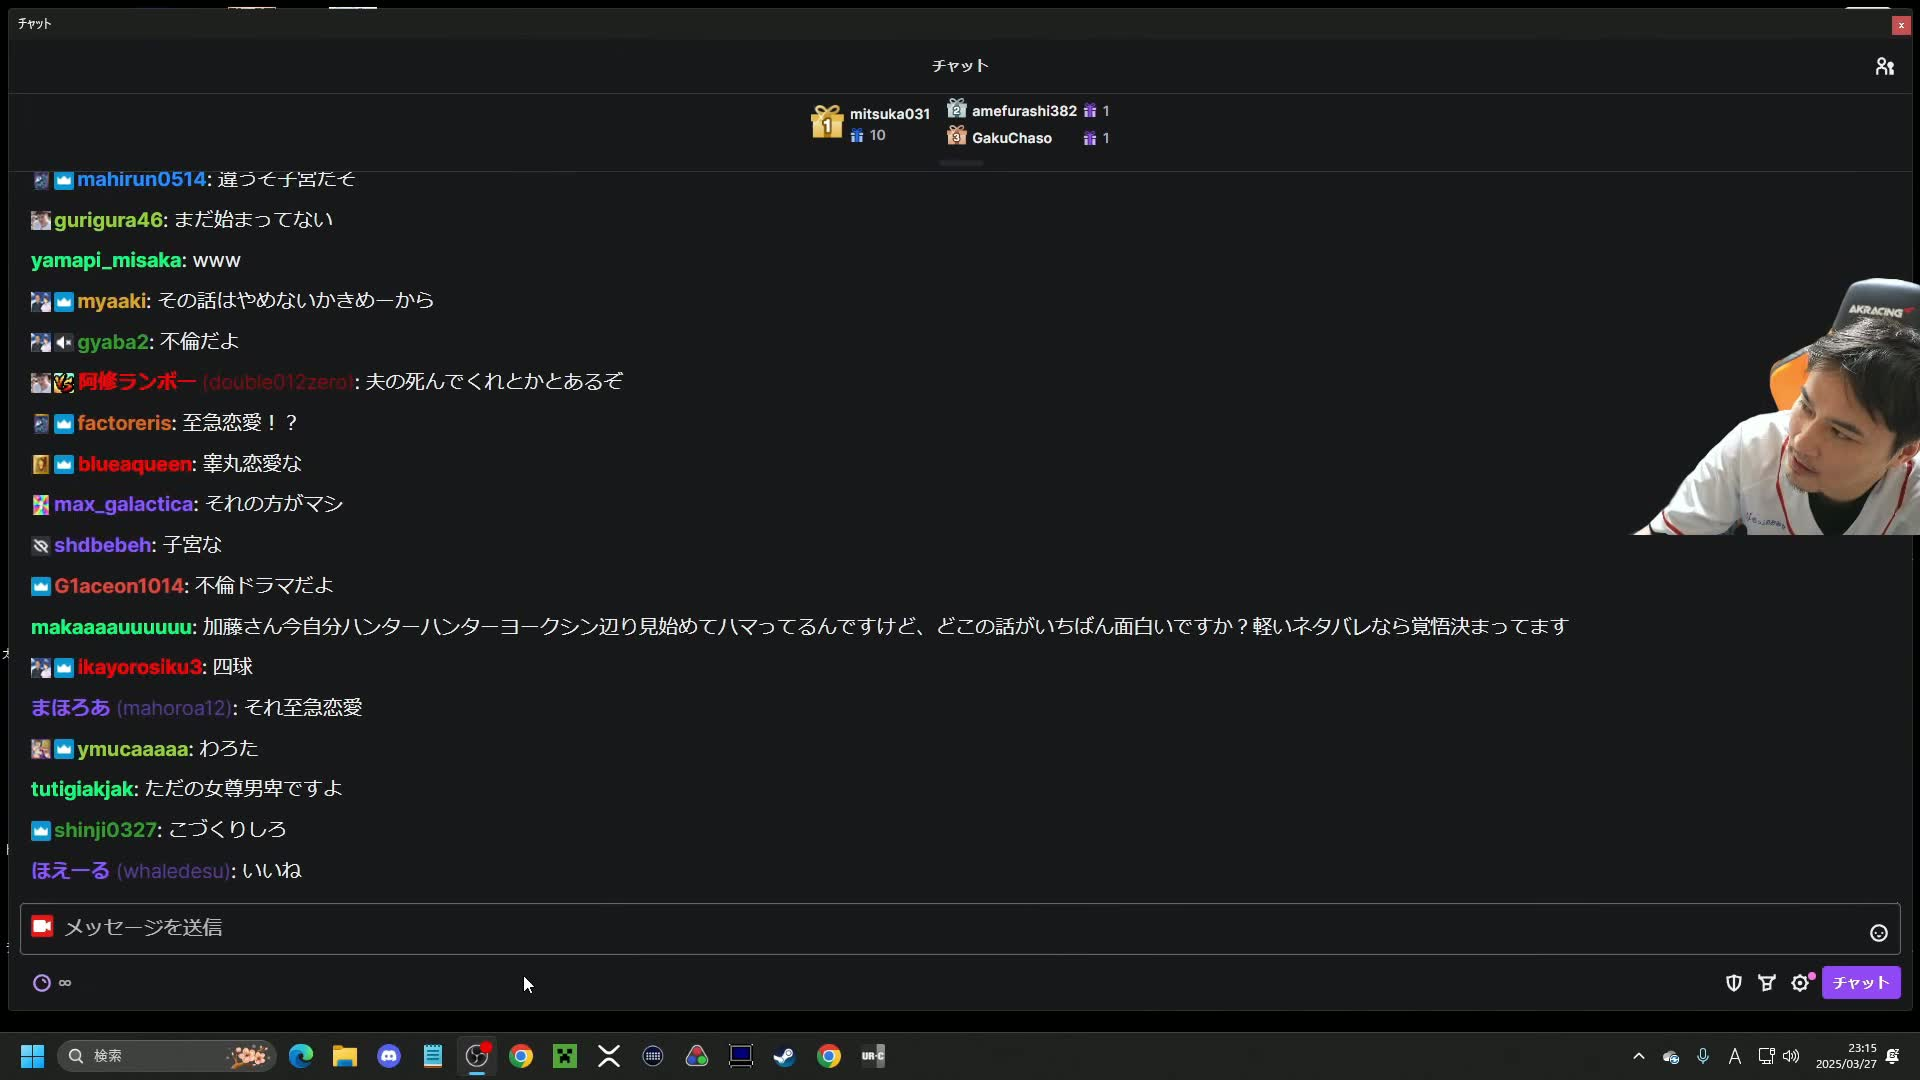stream_tag: (1634, 273, 1920, 534)
